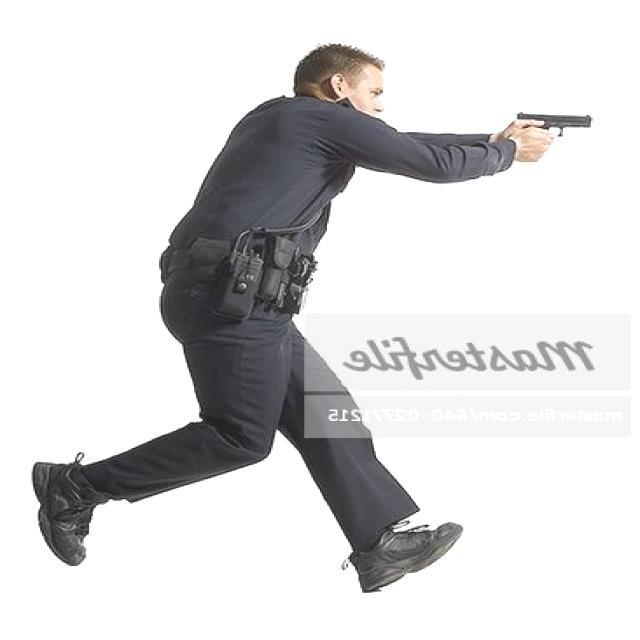pistol: (498, 105, 596, 164)
